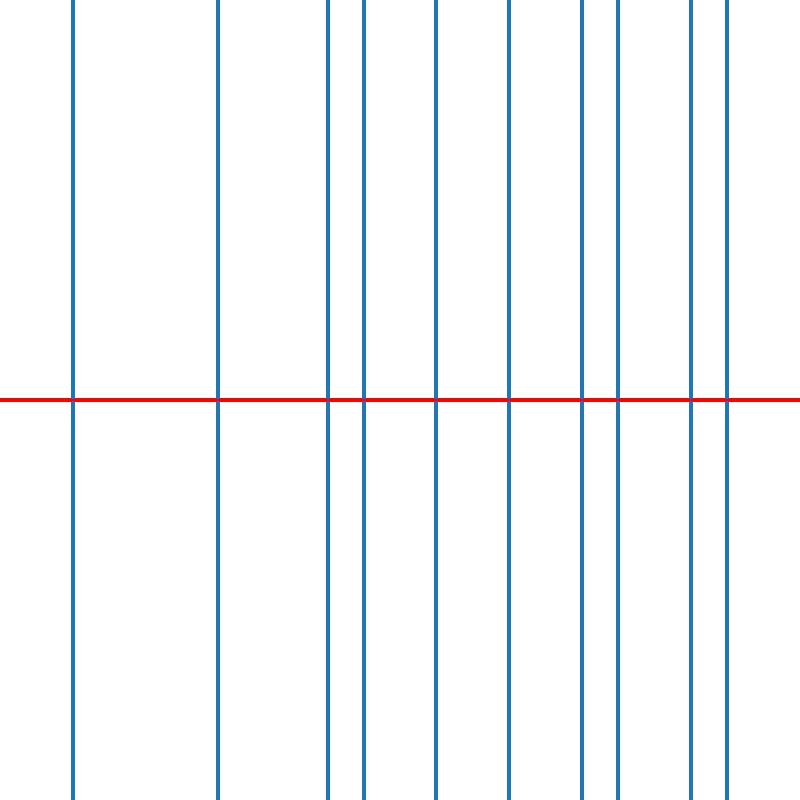root: (432, 396, 440, 404), (69, 396, 76, 404), (323, 396, 330, 404), (723, 396, 730, 404), (614, 396, 621, 404), (214, 396, 221, 404), (360, 396, 367, 404), (687, 396, 694, 404), (505, 396, 512, 404), (578, 396, 585, 404)
